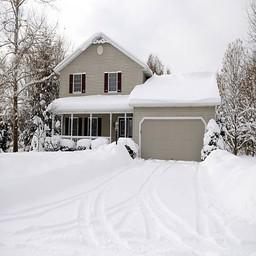Snow: (1, 138, 255, 256), (130, 72, 220, 102), (49, 95, 132, 109), (203, 120, 219, 152), (62, 139, 75, 147), (79, 140, 91, 147)
